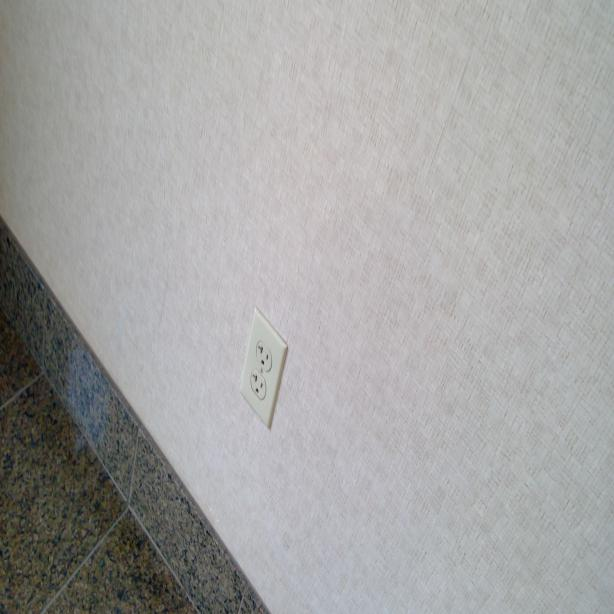typeb: (253, 336, 275, 372), (248, 369, 268, 400)
